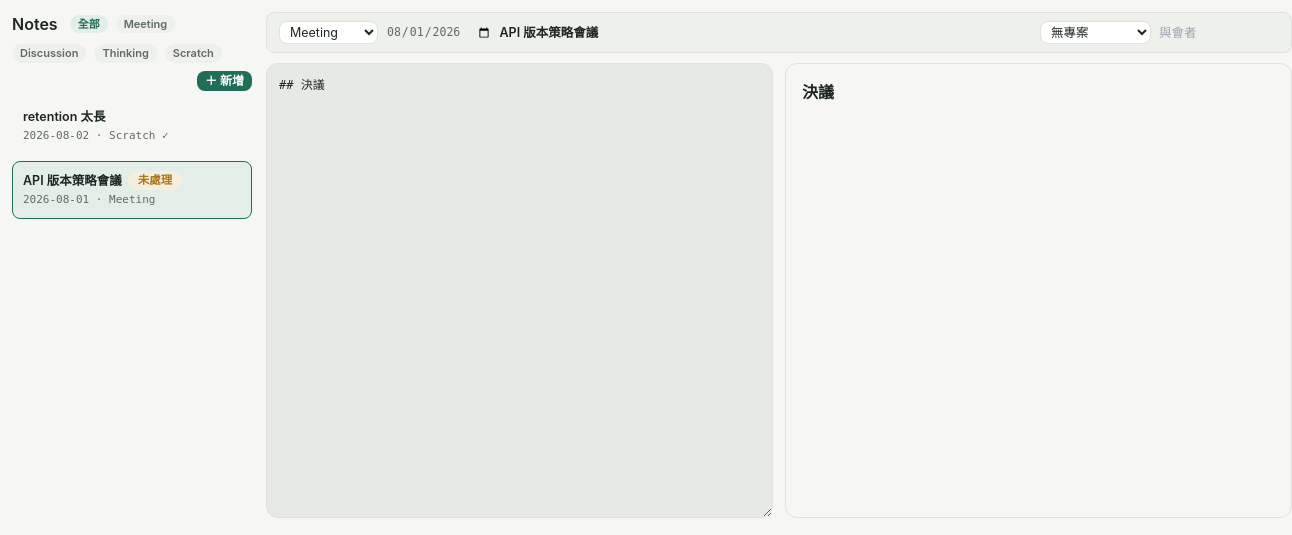
Test: Notes › omits an emptied date and says the original will be kept
Clear the date field named "日期" at (439, 32), box [386, 22, 492, 43]
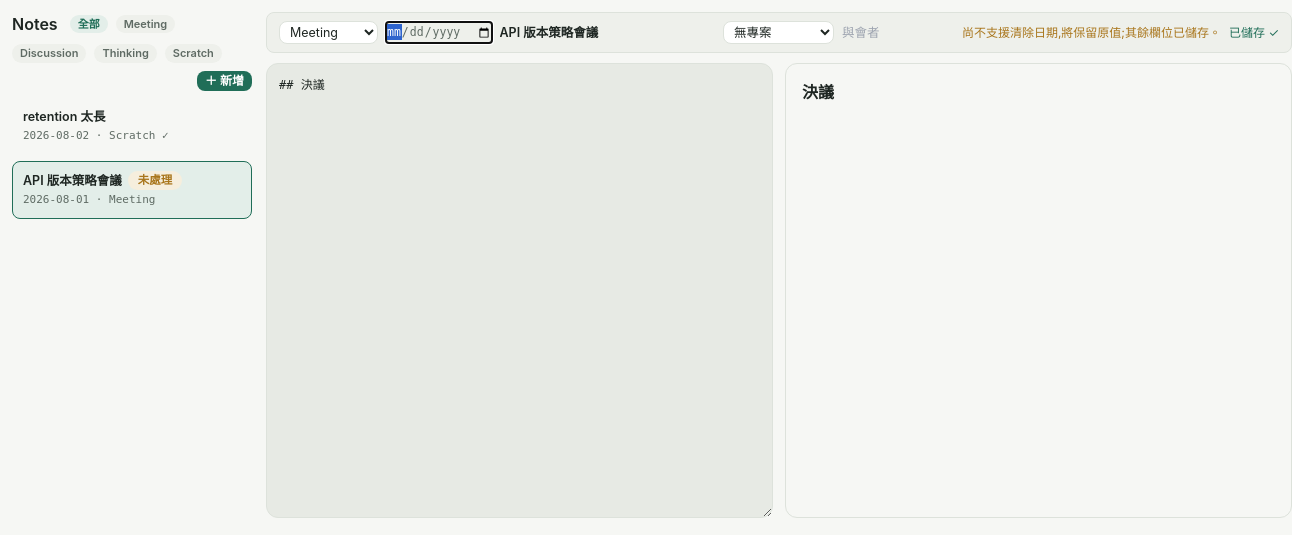
Expected: the text "尚不支援清除日期,將保留原值;其餘欄位已儲存。" is shown, [962, 24, 1221, 40]
